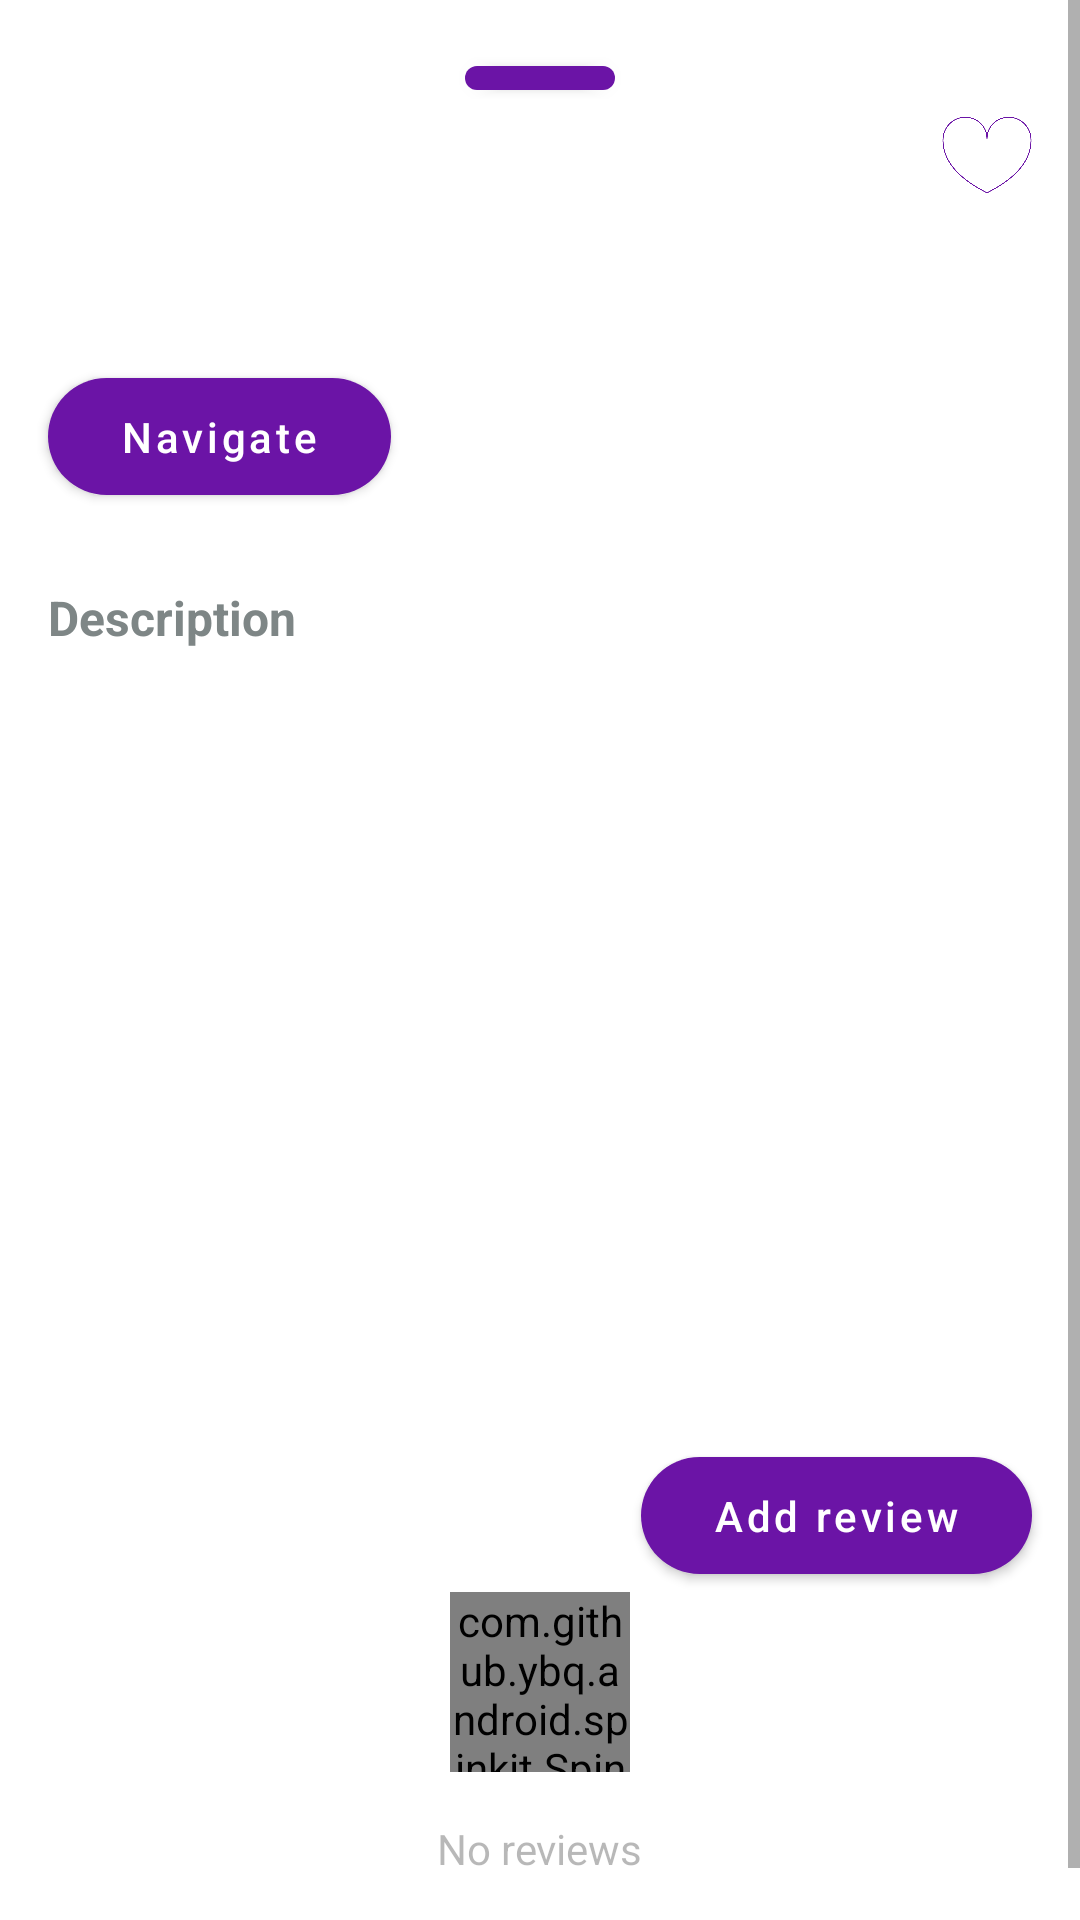

Icons on this 1080px x 1920px Android screen, each with its box as region(x1, y1, x2, y2):
heart empty: region(942, 117, 1032, 193)
